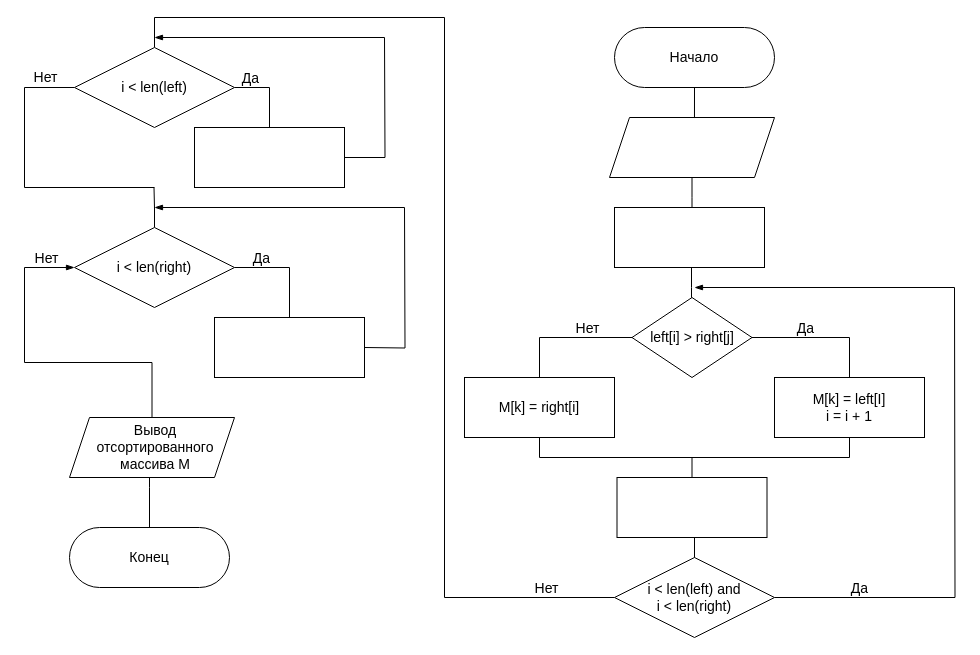
This 980x655 diagram has some shape labels left out. The shapes that lost their labels are listed below. From the top down, each one's centre as x and y in pixels, then its label:
At (x=269, y=157): "M[k] = left[I] i = i + 1 k = k + 1".
At (x=691, y=147): "Ввод двух половин left и right".
At (x=689, y=237): "i = 0 j = 0 k = 0".
At (x=289, y=347): "M[k] = right[I] j = j + 1 k = k + 1".
At (x=691, y=507): "k = k + 1".
